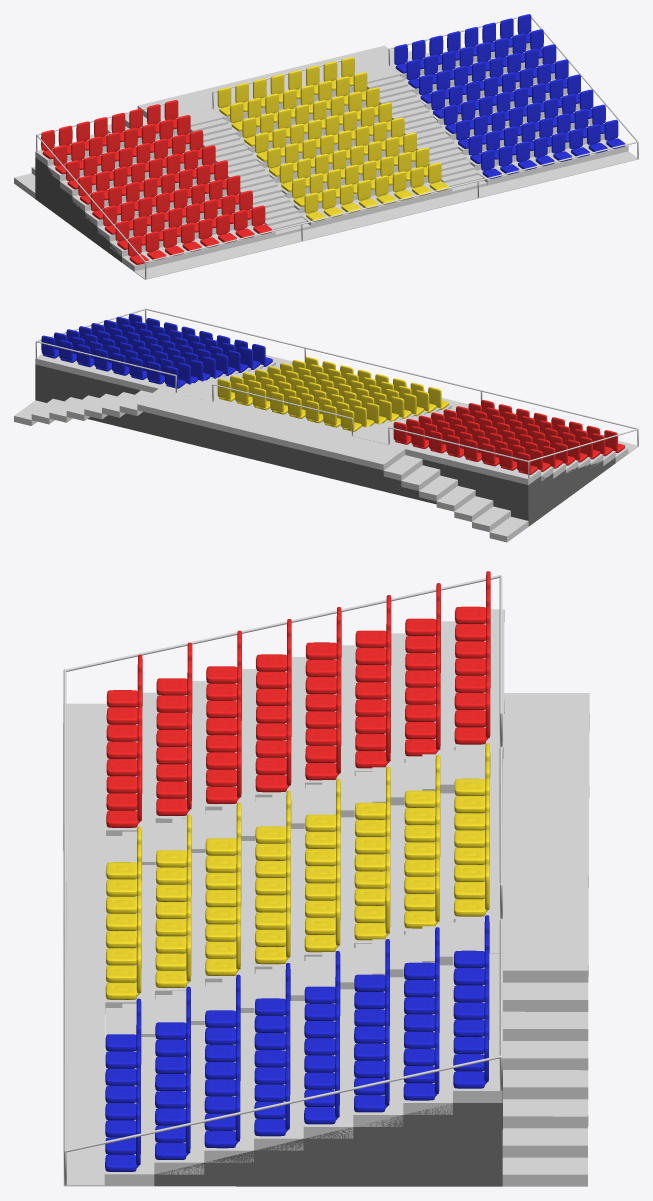
File: Seating.fbx
3 views of the same model, one above another, from view 1: azimuth 30°, elevation 25°; view 2: azimuth 150°, elevation 25°; view 3: azimuth 270°, elevation 25° (orthographic). The views are drawn at different scales.
Visible parts, largest first — view 1: Floor, Seat R, Seat M, Seat l, Wall, Railing; view 2: Floor, Wall, Seat M, Seat R, Seat l, Railing; view 3: Floor, Seat l, Seat M, Seat R, Wall, Railing.
Boxes of the visible parts, x1,y1,x2,y2 form: Floor: (14, 32, 638, 279); Seat R: (394, 14, 625, 179); Seat M: (217, 57, 448, 221); Seat l: (41, 100, 272, 264); Wall: (35, 157, 121, 262); Railing: (36, 16, 638, 279); Floor: (14, 353, 638, 542); Wall: (35, 364, 615, 526); Seat M: (217, 356, 448, 431); Seat R: (41, 313, 272, 388); Seat l: (393, 400, 624, 474); Railing: (35, 308, 638, 478); Floor: (63, 609, 589, 1186); Seat l: (106, 571, 490, 827); Seat M: (105, 743, 490, 999); Seat R: (105, 915, 489, 1171); Wall: (154, 712, 504, 1186); Railing: (63, 575, 502, 1185).
Bounding box in the file's own units: 33418 × 4448 × 15419.
